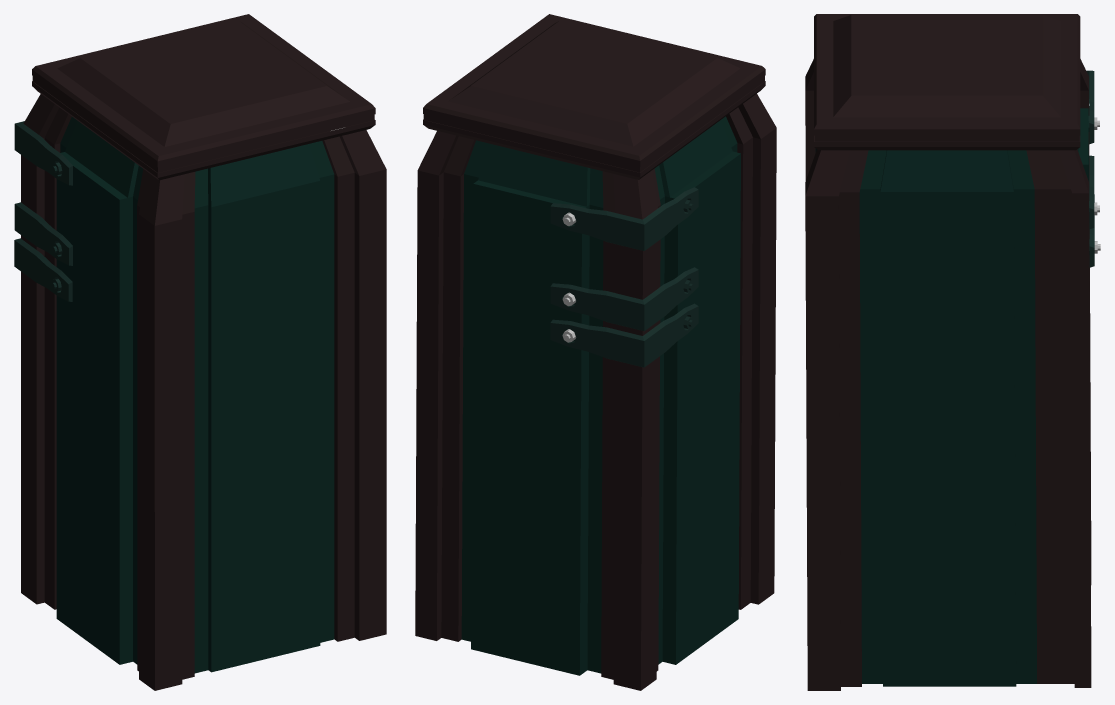
The picture shows the model from 3 angles, left to right: view 1: azimuth 30°, elevation 25°; view 2: azimuth 150°, elevation 25°; view 3: azimuth 270°, elevation 25°; orthographic projection. The views are drawn at different scales.
Visible parts, largest first — view 1: box1; view 2: box1; view 3: box1.
Boxes of the visible parts, left/top/right/bottom form: box1: left=14, top=14, right=386, bottom=690; box1: left=415, top=14, right=776, bottom=690; box1: left=805, top=14, right=1100, bottom=690.
Size of the model in its own units: 1.18 by 2.54 by 1.18.
